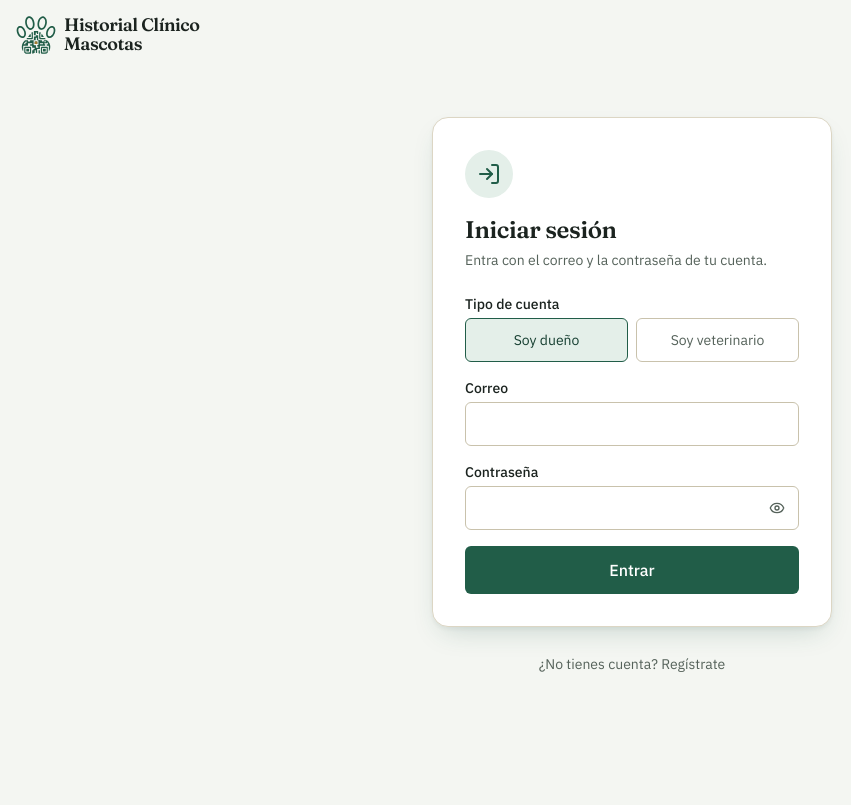
Test: PaginaInicioSesion (RNF 03 y 06) › una cuenta sin verificar ofrece ir a la pantalla del código
Type "ana@example.com" into the field labelled "Correo" at (632, 424), box [465, 402, 799, 446]
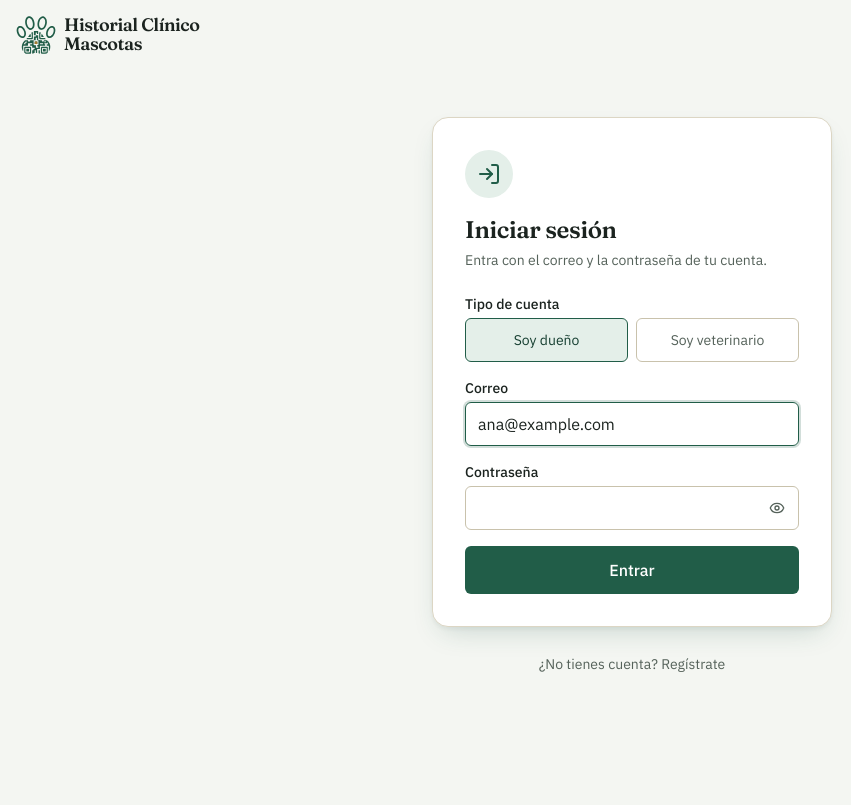
Type "Clave-Segura-2026!" into the password field labelled "Contraseña" at (632, 508), box [465, 486, 799, 530]
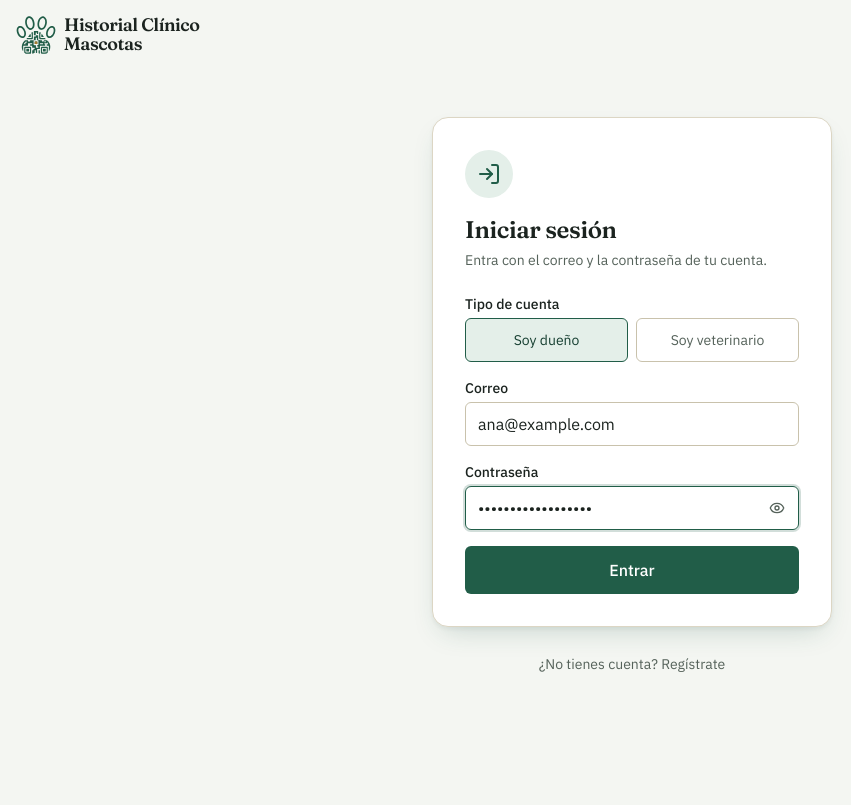
Click the button "Entrar" at (632, 570), box [465, 546, 799, 594]
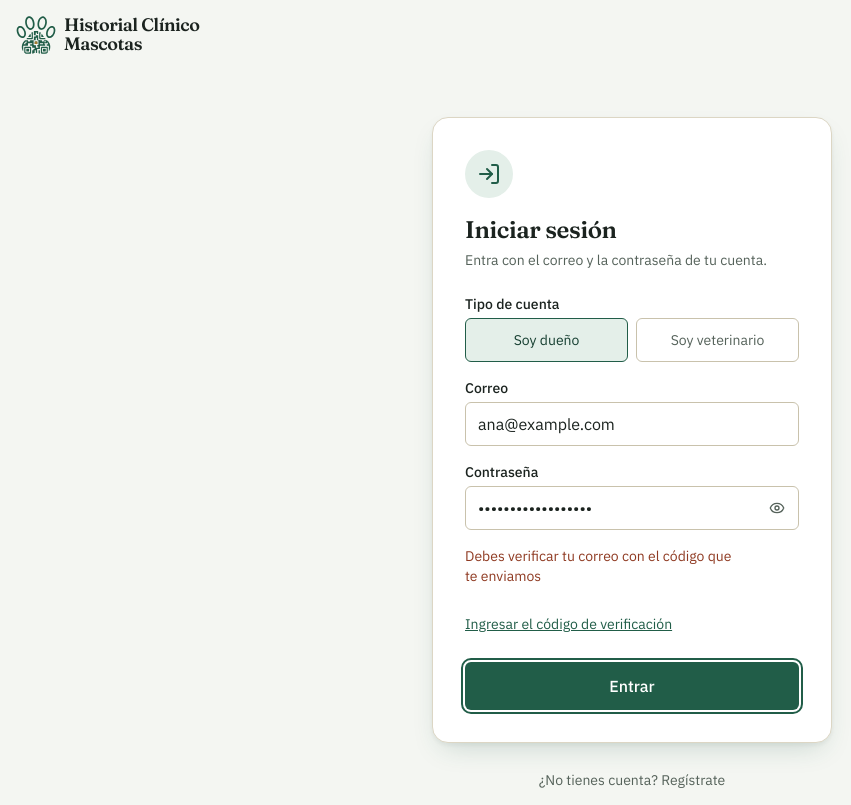
Click the button "Ingresar el código de verificación" at (569, 624), box [465, 602, 672, 646]
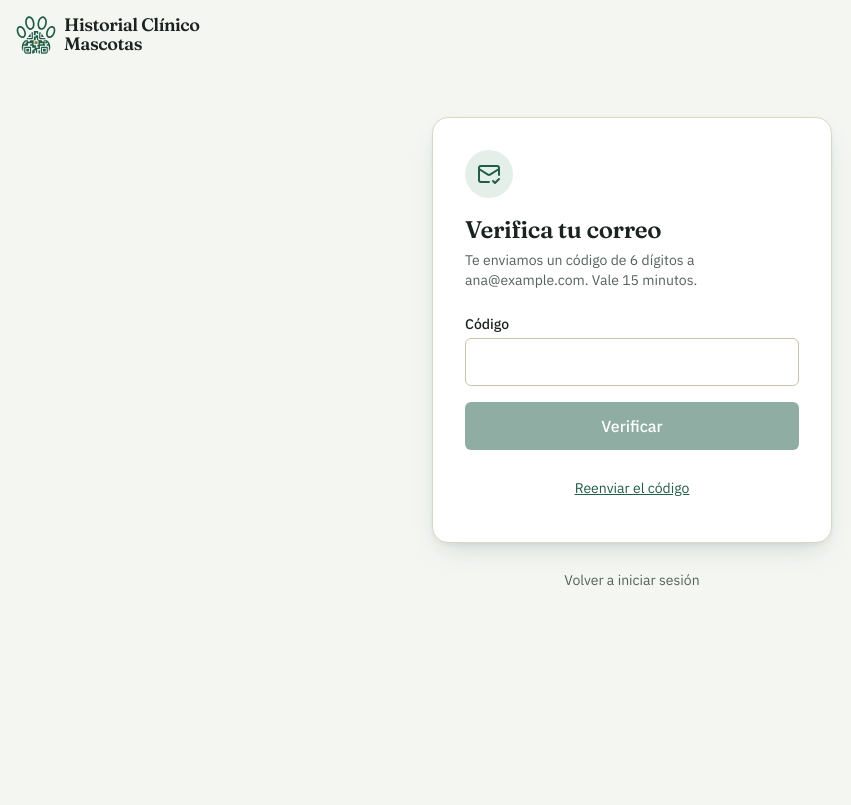
Expected: the heading "Verifica tu correo" is shown, [465, 215, 661, 244]
Expected: the text "ana@example.com" is shown, [465, 251, 697, 289]
